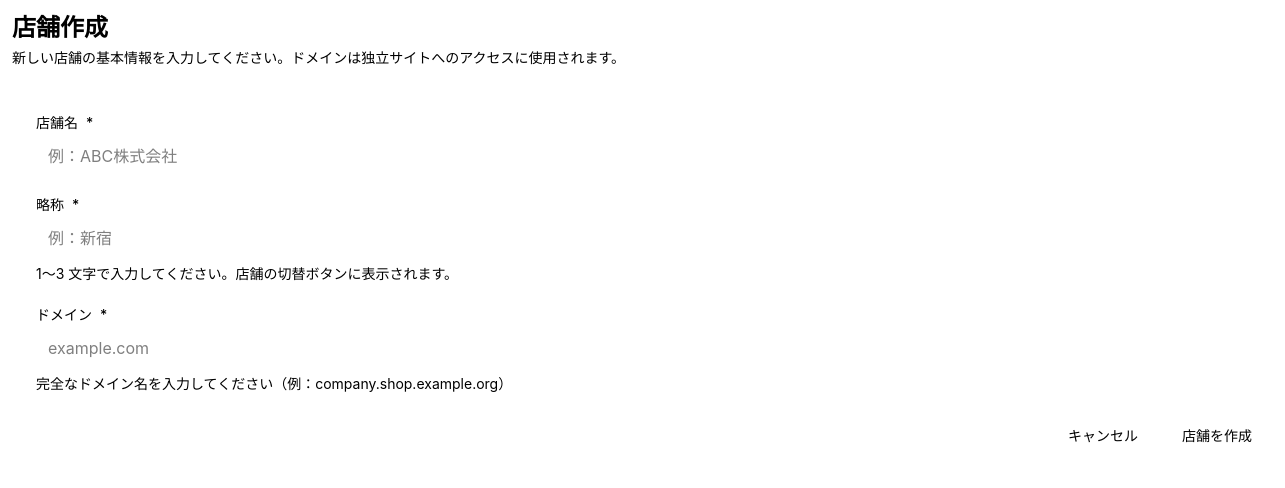
Scenario: 店舗管理 3 画面の挙動 › 新規作成はドメイン形式が不正なら送信せずエラーを表示すること
In the field labelled "店舗名 *": [652, 156] box [36, 138, 1268, 174], type "ガンマ店"
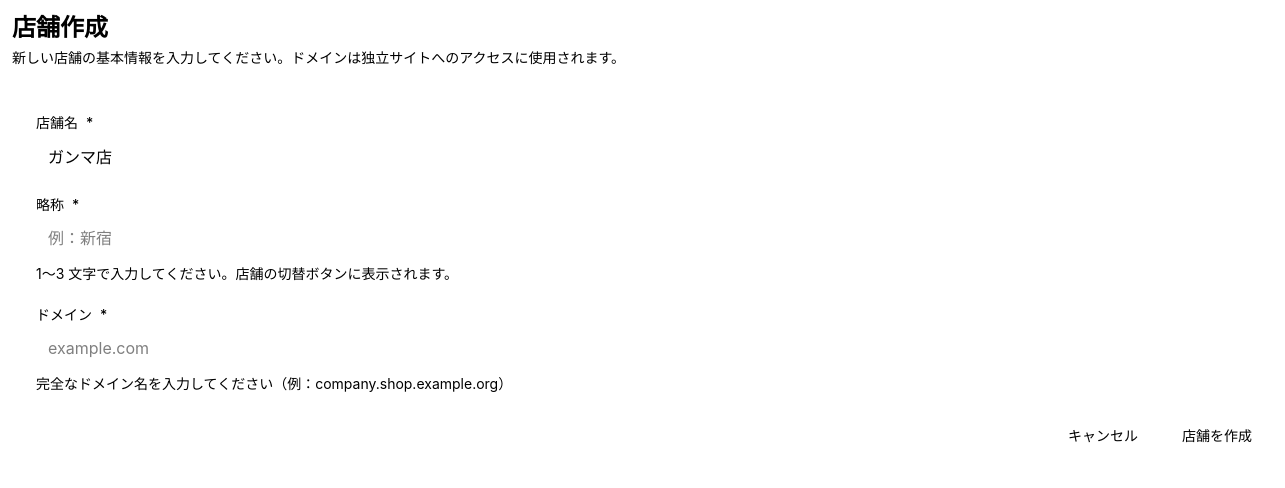
In the field labelled "略称 *": [652, 238] box [36, 220, 1268, 256], type "ガ"
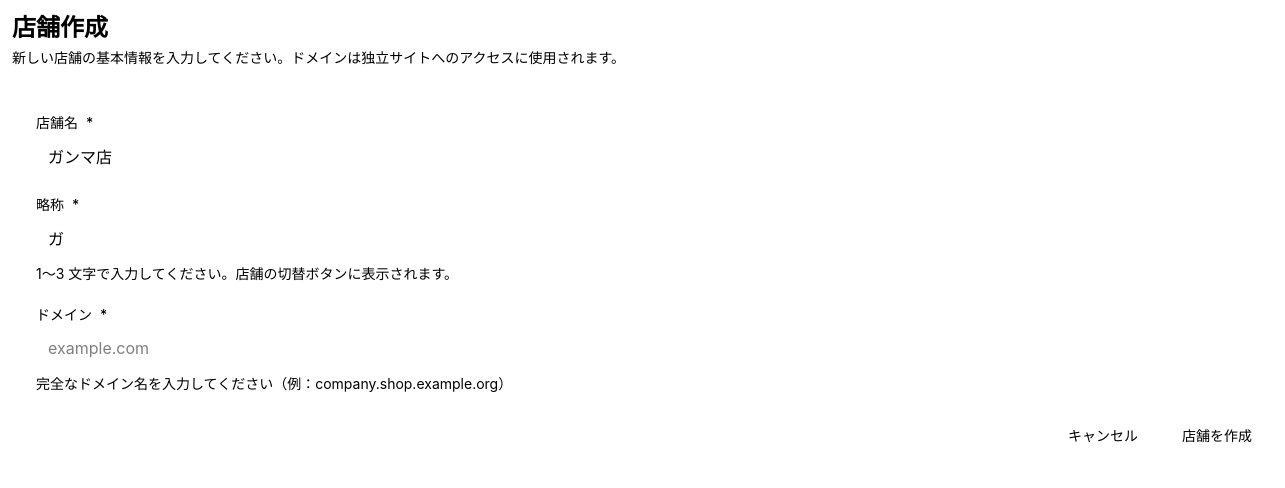
In the field labelled "ドメイン *": [652, 348] box [36, 330, 1268, 366], type "不正 ドメイン"
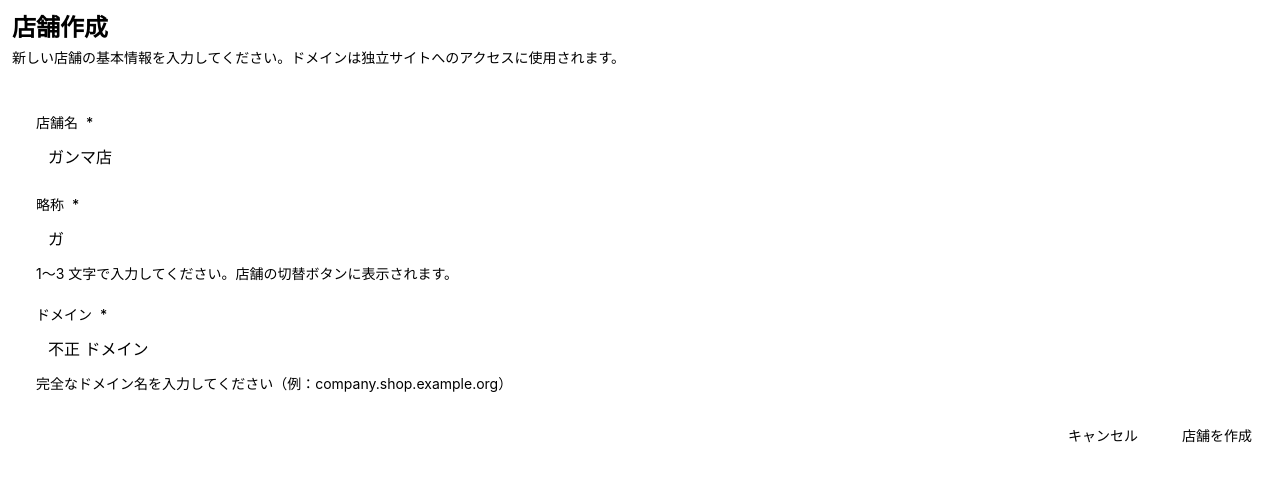
Click the button "店舗を作成": [1217, 436] box [1166, 418, 1268, 454]
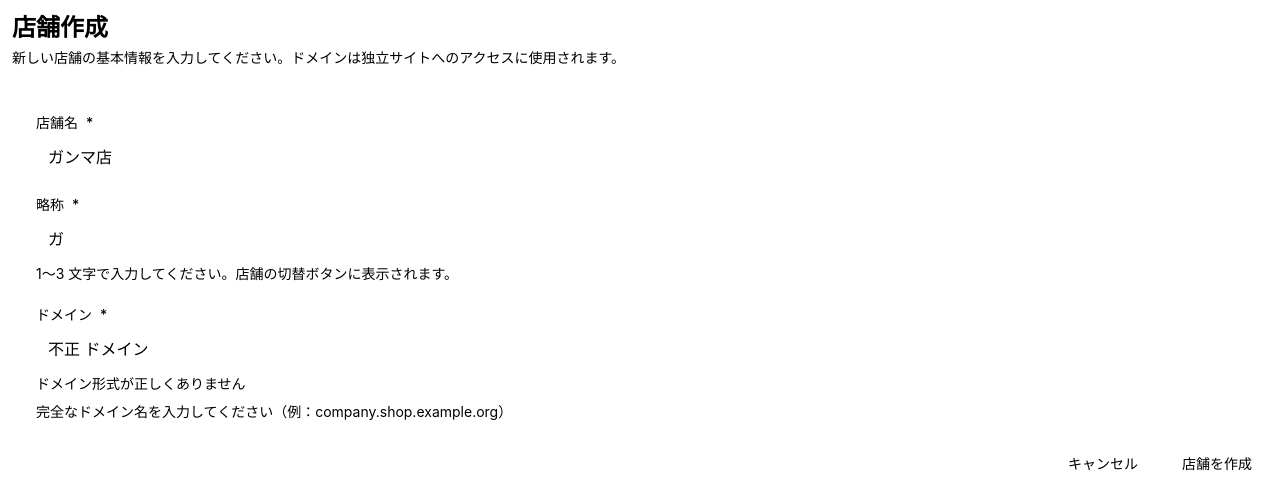
expect the text "ドメイン形式が正しくありません" is shown: met, box [36, 375, 246, 392]
